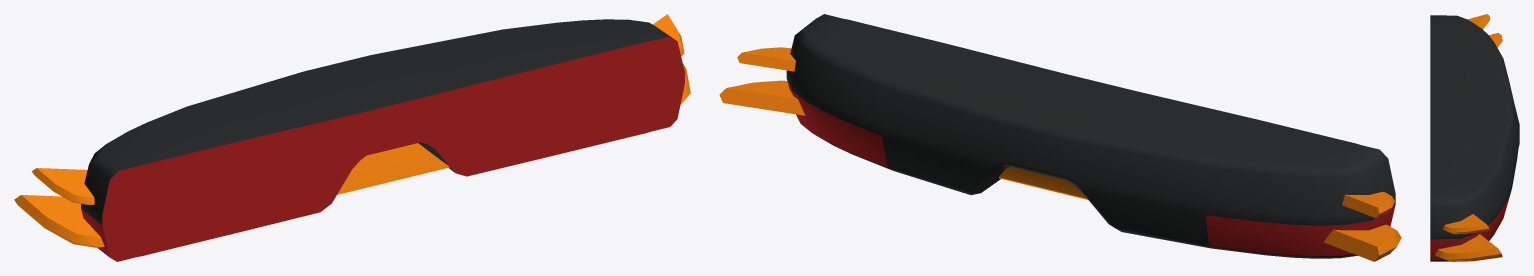
File: Car_02_RearBumper_Cool.fbx
The picture shows the model from 3 angles, left to right: view 1: azimuth 30°, elevation 25°; view 2: azimuth 150°, elevation 25°; view 3: azimuth 270°, elevation 25°; orthographic projection. The views are drawn at different scales.
Parts seen in each view (by area): view 1: Car_02_RearBumper_Cool; view 2: Car_02_RearBumper_Cool; view 3: Car_02_RearBumper_Cool.
Boxes of the visible parts, bbox=[...] form: Car_02_RearBumper_Cool: bbox=[14, 14, 690, 261]; Car_02_RearBumper_Cool: bbox=[719, 14, 1401, 261]; Car_02_RearBumper_Cool: bbox=[1430, 14, 1519, 261].
Bounding box in the file's own units: 193 × 33.31 × 25.66.
